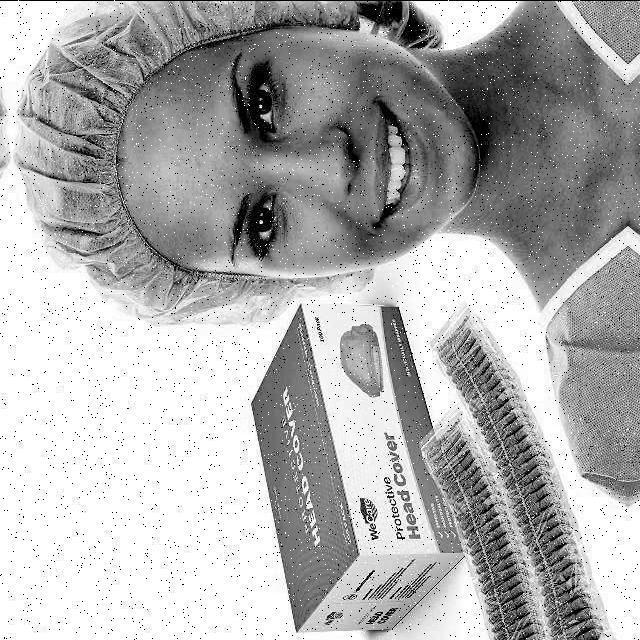gloves: (23, 0, 202, 314)
no_hairnet: (316, 83, 436, 230)
